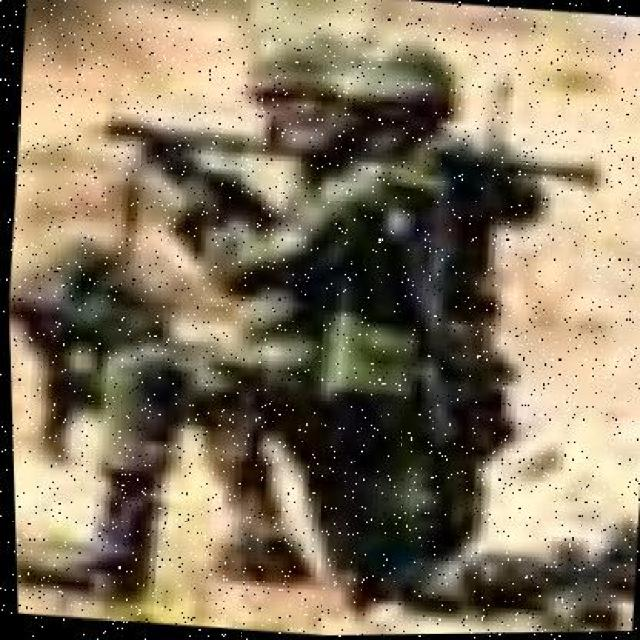MIL_Pax: (106, 43, 397, 605), (364, 56, 521, 538)
